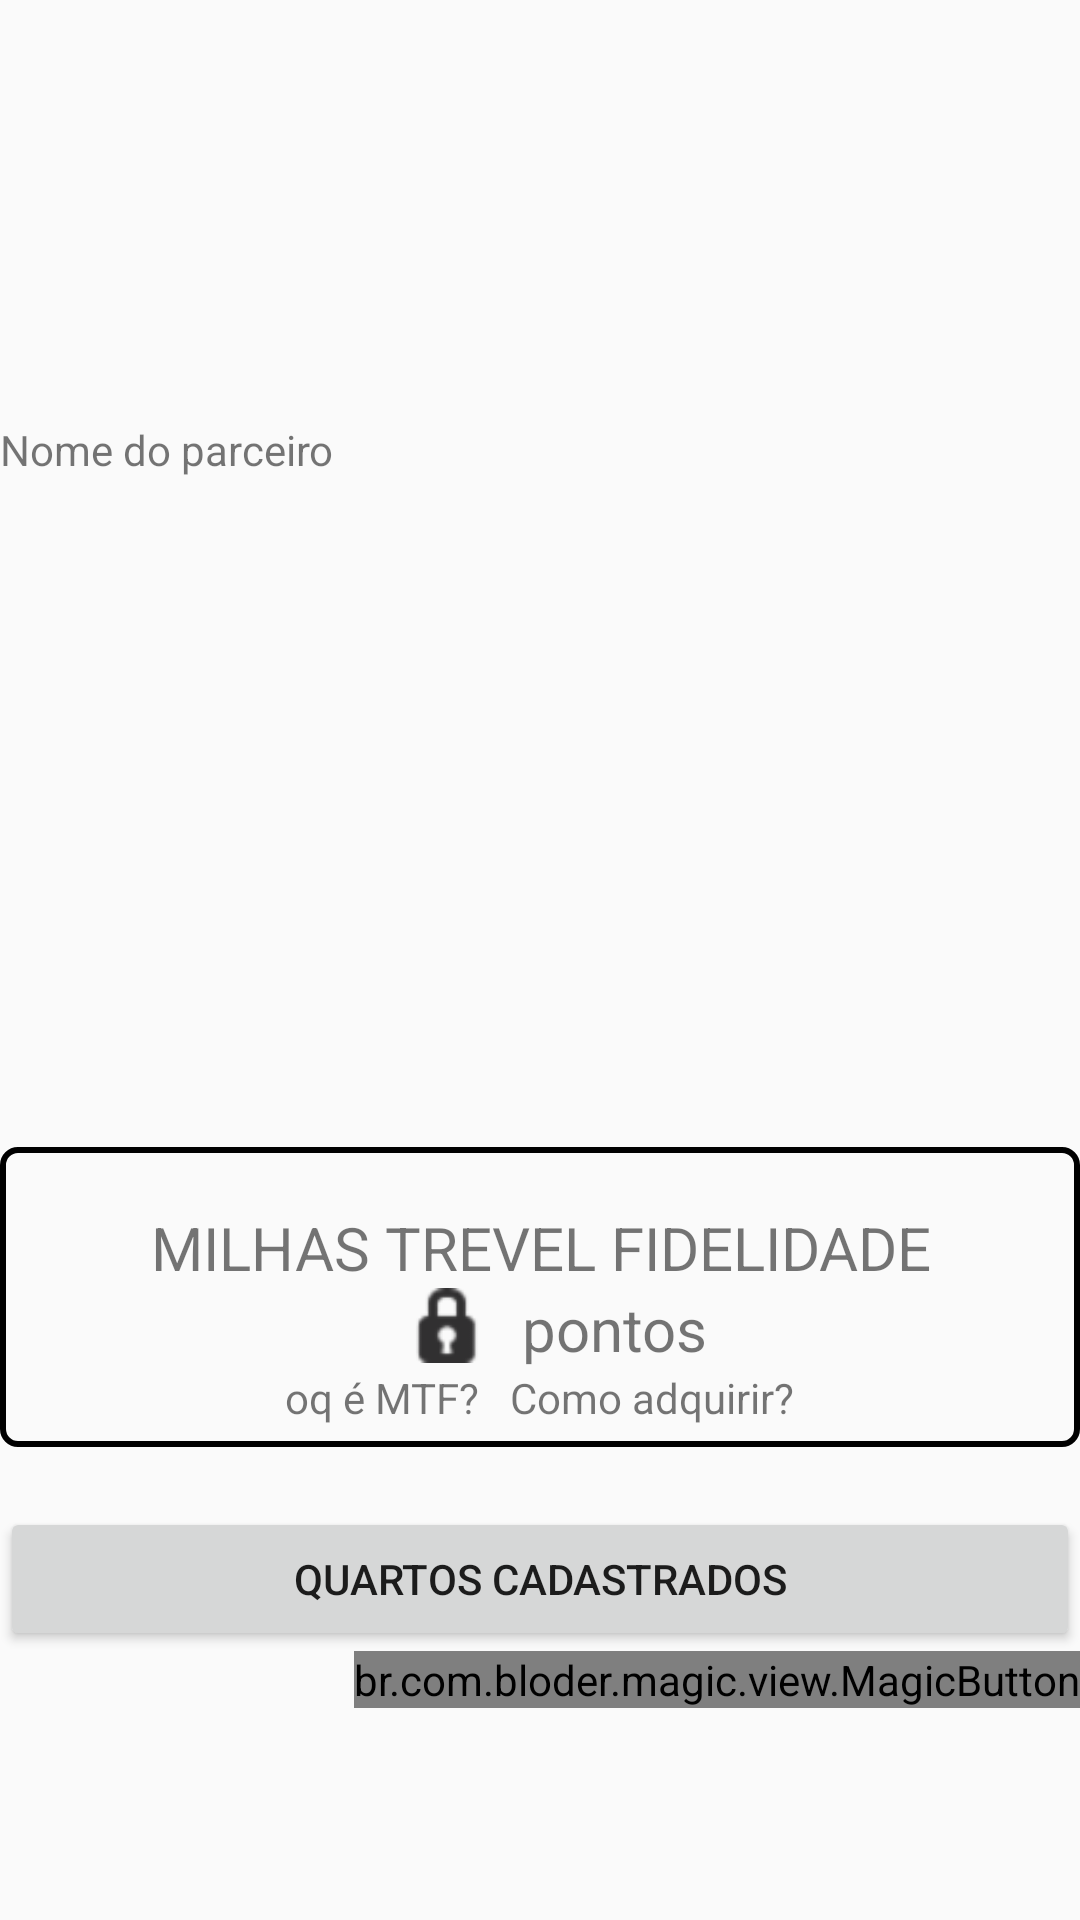

Screen size 1080 × 1920. Icon name, then its center in pixels as (x,y):
secure: (446,1325)
